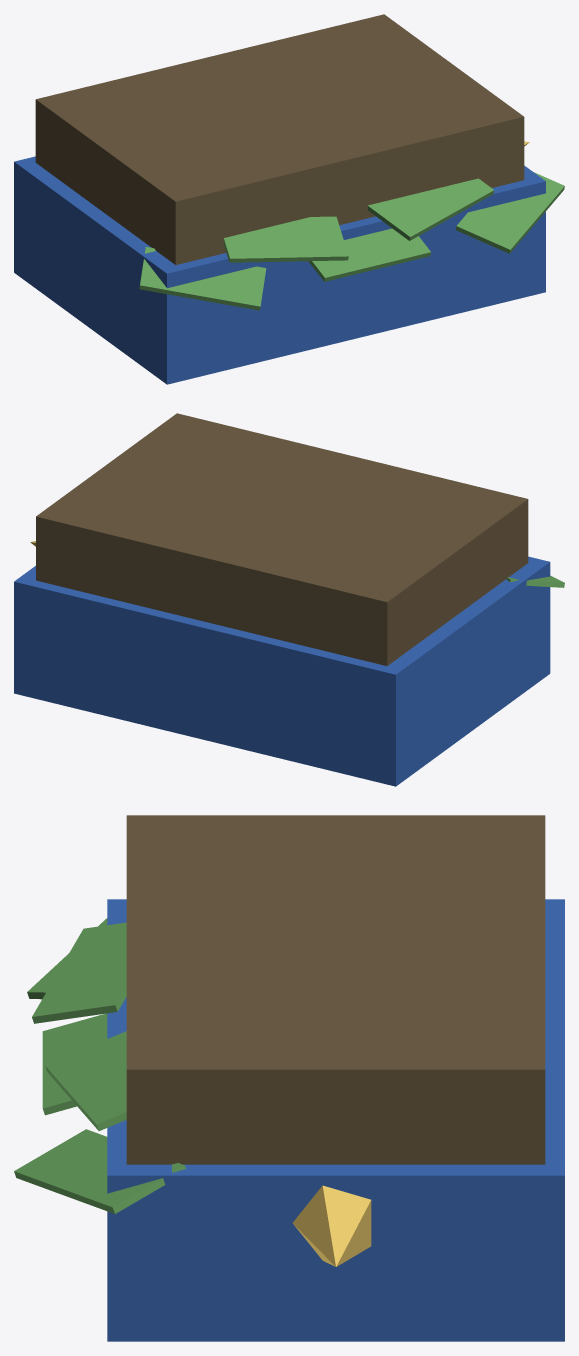
Rendered from scarecrow_costume.glb.
3 views of the same model, one above another, from view 1: azimuth 30°, elevation 25°; view 2: azimuth 150°, elevation 25°; view 3: azimuth 270°, elevation 25° (orthographic). The views are drawn at different scales.
Parts seen in each view (by area): view 1: trousers_costume_trousers, shirt_scarecrow_shirt, bills_bill_green; view 2: trousers_costume_trousers, shirt_scarecrow_shirt; view 3: trousers_costume_trousers, shirt_scarecrow_shirt, bills_bill_green, straw_scarecrow_straw.
Boxes of the visible parts, x1,y1,x2,y2 form: trousers_costume_trousers: (35,14,524,264); shirt_scarecrow_shirt: (14,156,545,384); bills_bill_green: (139,172,564,310); trousers_costume_trousers: (36,413,528,665); shirt_scarecrow_shirt: (14,556,550,786); trousers_costume_trousers: (126,815,545,1164); shirt_scarecrow_shirt: (107,899,564,1341); bills_bill_green: (14,918,185,1213); straw_scarecrow_straw: (293,1185,371,1266).
Size of the model in its own units: 0.6075 by 0.22 by 0.4212.
